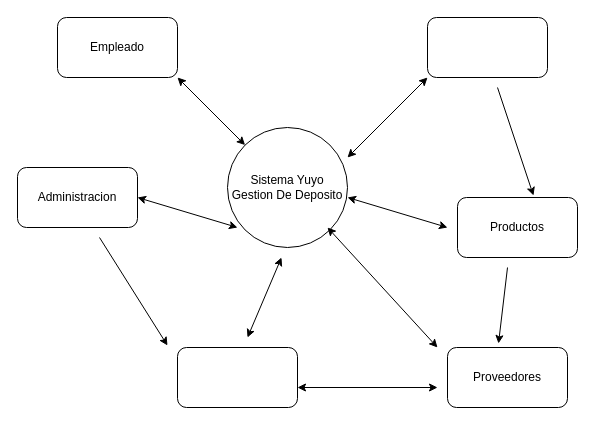
The diagram is 595 pixels wide and 425 high, and some of its shapes have lost their labels. The centre of each missing label's shape, as x and y in pixels:
Reportes: point (237, 377)
Usuario: point (487, 47)
